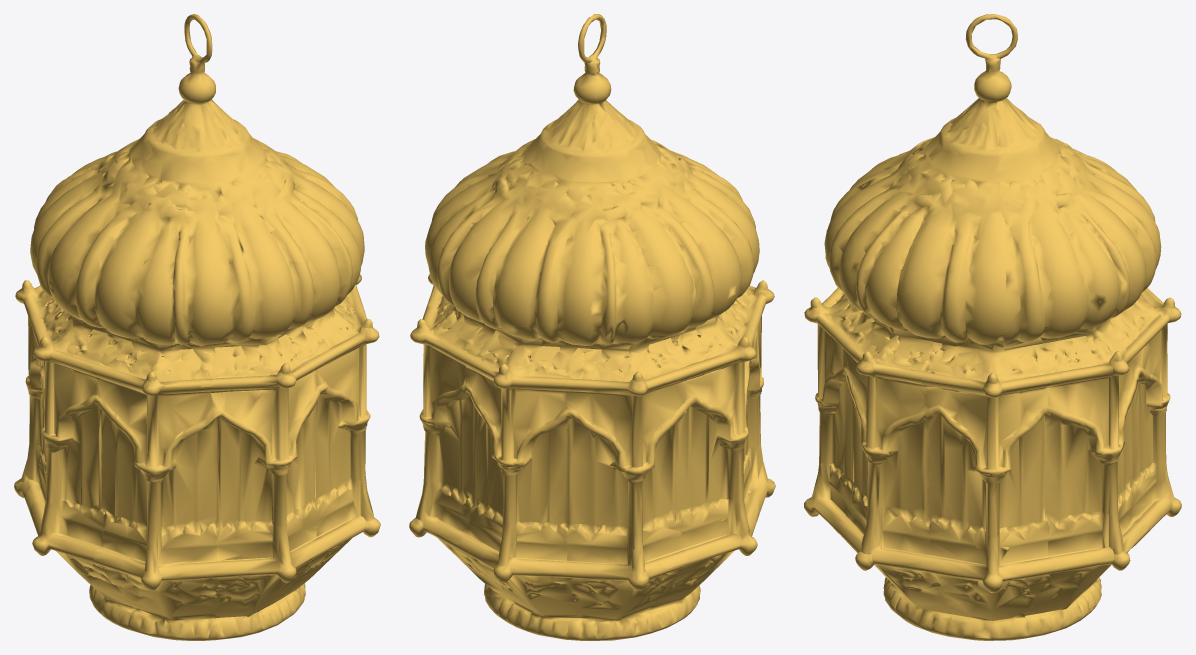
The model's file is lantern.glb.
3 views of the same model, side by side, from view 1: azimuth 30°, elevation 25°; view 2: azimuth 150°, elevation 25°; view 3: azimuth 270°, elevation 25° (orthographic).
Parts seen in each view (by area): view 1: tripo_node_e732f4be-092b-4382-be26-4502a32c1437_n3d; view 2: tripo_node_e732f4be-092b-4382-be26-4502a32c1437_n3d; view 3: tripo_node_e732f4be-092b-4382-be26-4502a32c1437_n3d.
Part boxes in pixels (box(x1,y1,x2,y2)): tripo_node_e732f4be-092b-4382-be26-4502a32c1437_n3d: box(14, 14, 380, 640); tripo_node_e732f4be-092b-4382-be26-4502a32c1437_n3d: box(409, 14, 775, 640); tripo_node_e732f4be-092b-4382-be26-4502a32c1437_n3d: box(804, 14, 1181, 640).
Bounding box in the file's own units: 2.44 × 4.14 × 2.43.
